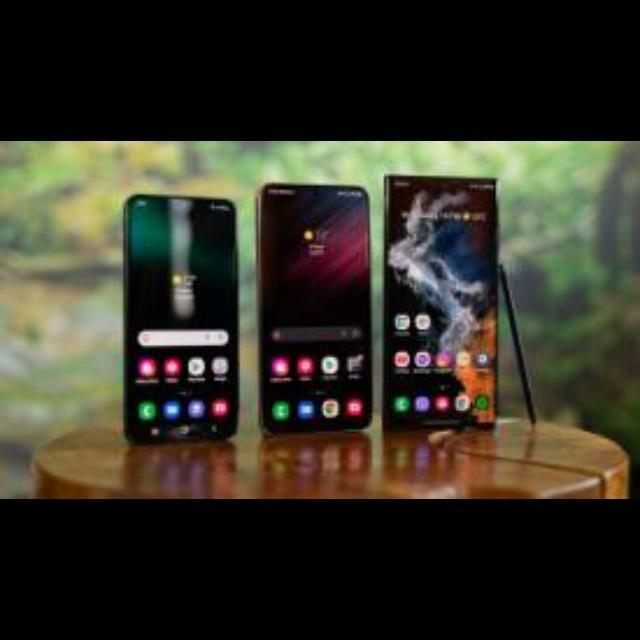Phone: (253, 182, 374, 436), (385, 174, 499, 430), (125, 194, 239, 442)
